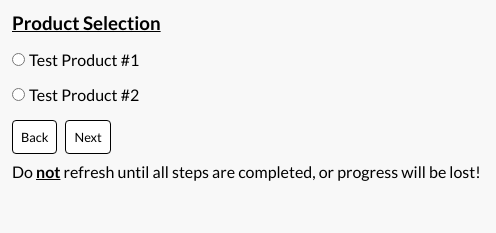
form 3 › show product validation if submitted without selection
Click the button "Next" at coordinates (88, 137), box [66,120,111,154]
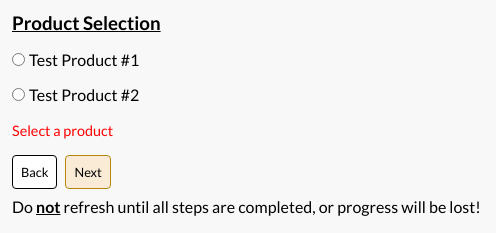
Now the text "Select a product" is shown, box [12,122,113,139]
